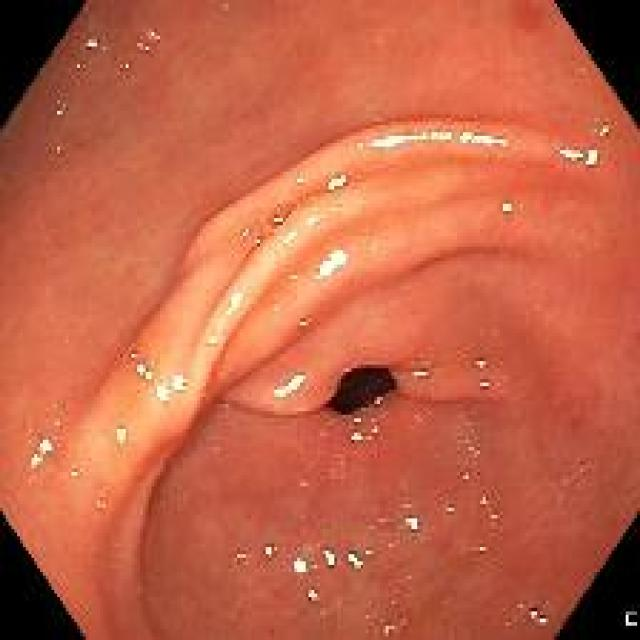bubbles: (125, 343, 152, 384)
contrast: (324, 359, 405, 419)
specularity: (371, 132, 510, 152), (349, 411, 390, 454), (123, 28, 159, 74), (558, 141, 599, 169), (28, 432, 59, 468), (316, 249, 349, 277), (275, 375, 309, 402), (529, 602, 556, 632), (459, 442, 479, 481), (477, 493, 497, 528), (474, 374, 498, 400), (345, 550, 366, 575), (263, 537, 281, 565), (320, 544, 338, 572), (402, 510, 421, 536), (227, 292, 246, 318), (81, 31, 99, 56), (292, 553, 311, 576), (322, 174, 347, 191), (269, 206, 288, 228), (204, 321, 218, 350), (170, 370, 190, 389), (48, 414, 65, 435), (153, 380, 169, 402), (384, 620, 406, 636), (115, 424, 129, 448), (279, 229, 300, 245), (598, 117, 612, 141), (65, 463, 80, 485), (473, 350, 487, 373), (304, 585, 320, 605), (138, 362, 153, 382), (408, 365, 428, 380), (53, 97, 65, 117), (294, 172, 307, 188), (352, 138, 365, 154), (500, 201, 512, 218), (129, 351, 142, 366), (364, 238, 377, 252), (253, 235, 264, 251), (238, 224, 248, 240), (53, 142, 62, 159)
